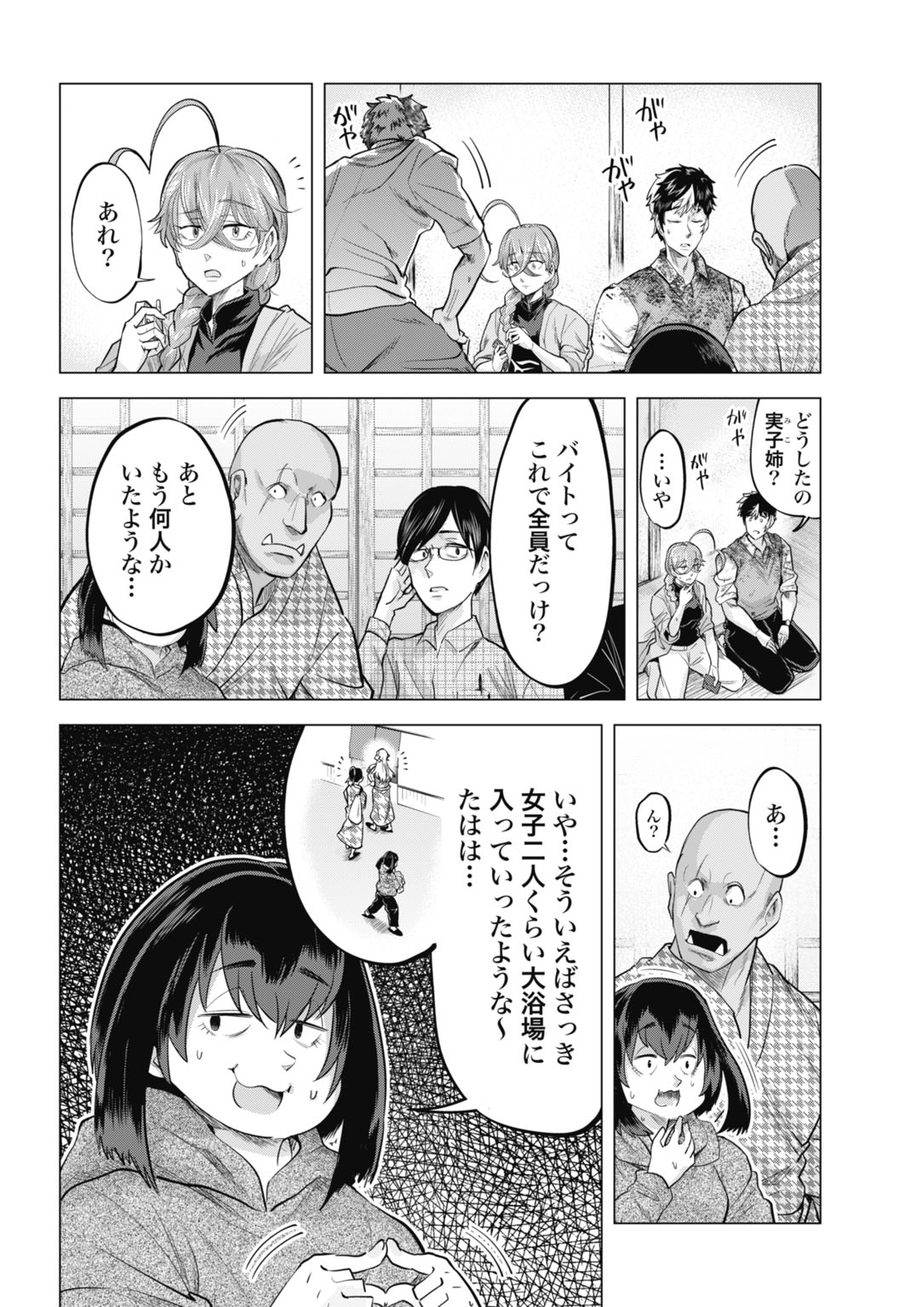bubbles: (278, 725, 604, 1144), (485, 397, 617, 687), (81, 416, 242, 641), (68, 154, 154, 312), (747, 399, 819, 543), (748, 762, 811, 882), (637, 422, 690, 536), (633, 784, 677, 860)
